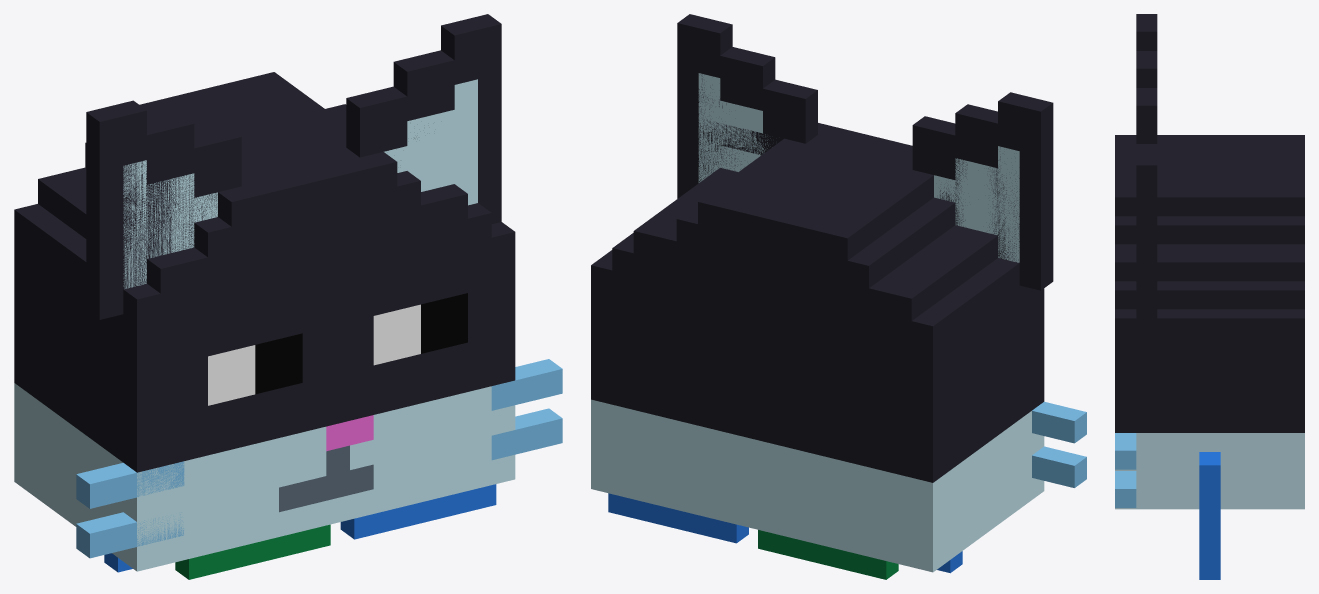
The model's file is cat.glb.
3 renders of one model, left to right at view 1: azimuth 30°, elevation 25°; view 2: azimuth 150°, elevation 25°; view 3: azimuth 270°, elevation 25°, orthographic. The views are drawn at different scales.
Parts seen in each view (by area): view 1: base, face, ear-back, stache, glasses; view 2: base, face, ear-back, glasses, stache; view 3: base, glasses, stache, ear-back.
Boxes of the visible parts, x1,y1,x2,y2 form: base: (14, 14, 515, 571); face: (123, 79, 477, 512); ear-back: (99, 24, 501, 319); stache: (76, 359, 562, 558); glasses: (104, 484, 496, 579); base: (591, 14, 1053, 572); face: (698, 73, 1019, 262); ear-back: (677, 23, 1040, 289); glasses: (608, 493, 962, 579); stache: (1032, 401, 1086, 487); base: (1115, 14, 1304, 509); glasses: (1199, 452, 1220, 579); stache: (1115, 433, 1136, 507); ear-back: (1136, 106, 1157, 143).
Size of the model in its own units: 20 by 21 by 9.
Materials: 14 (14 with a texture image).
